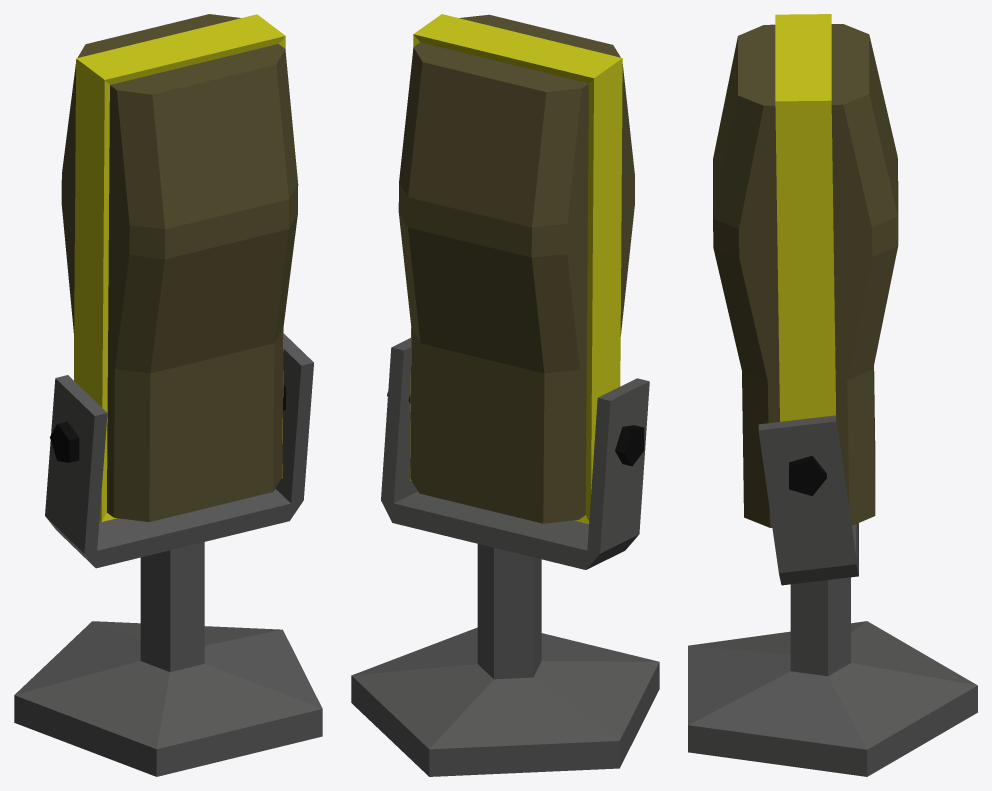
The model's file is mic.fbx.
3 renders of one model, left to right at view 1: azimuth 30°, elevation 25°; view 2: azimuth 150°, elevation 25°; view 3: azimuth 270°, elevation 25°, orthographic.
Parts seen in each view (by area): view 1: Stand Microphone.001, Cylinder.017, Stand Microphone.002; view 2: Stand Microphone.001, Cylinder.017, Stand Microphone.002; view 3: Cylinder.017, Stand Microphone.001, Stand Microphone.002.
Boxes of the visible parts, <box> form: Stand Microphone.001: <box>61,14,298,521</box>; Cylinder.017: <box>14,333,322,776</box>; Stand Microphone.002: <box>74,14,285,521</box>; Stand Microphone.001: <box>398,14,634,523</box>; Cylinder.017: <box>351,338,659,776</box>; Stand Microphone.002: <box>410,14,622,523</box>; Cylinder.017: <box>688,415,977,776</box>; Stand Microphone.001: <box>713,24,898,527</box>; Stand Microphone.002: <box>775,14,836,421</box>.
Bounding box in the file's own units: 1.25 × 2.97 × 1.19.
